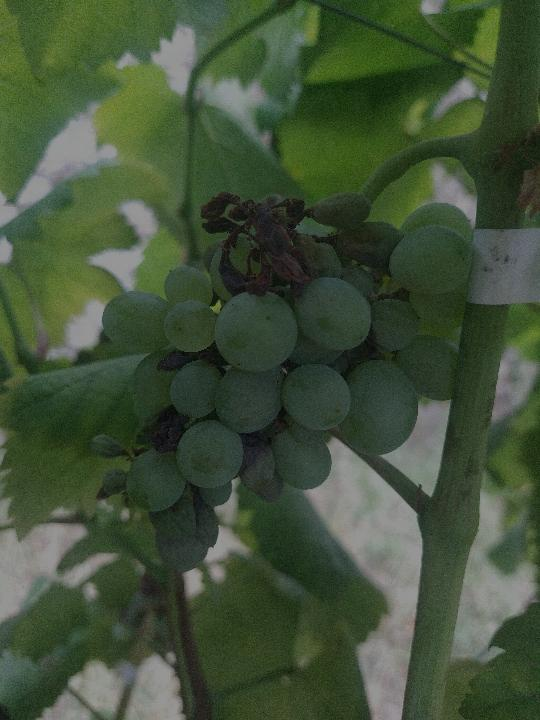grape: (86, 188, 476, 579)
